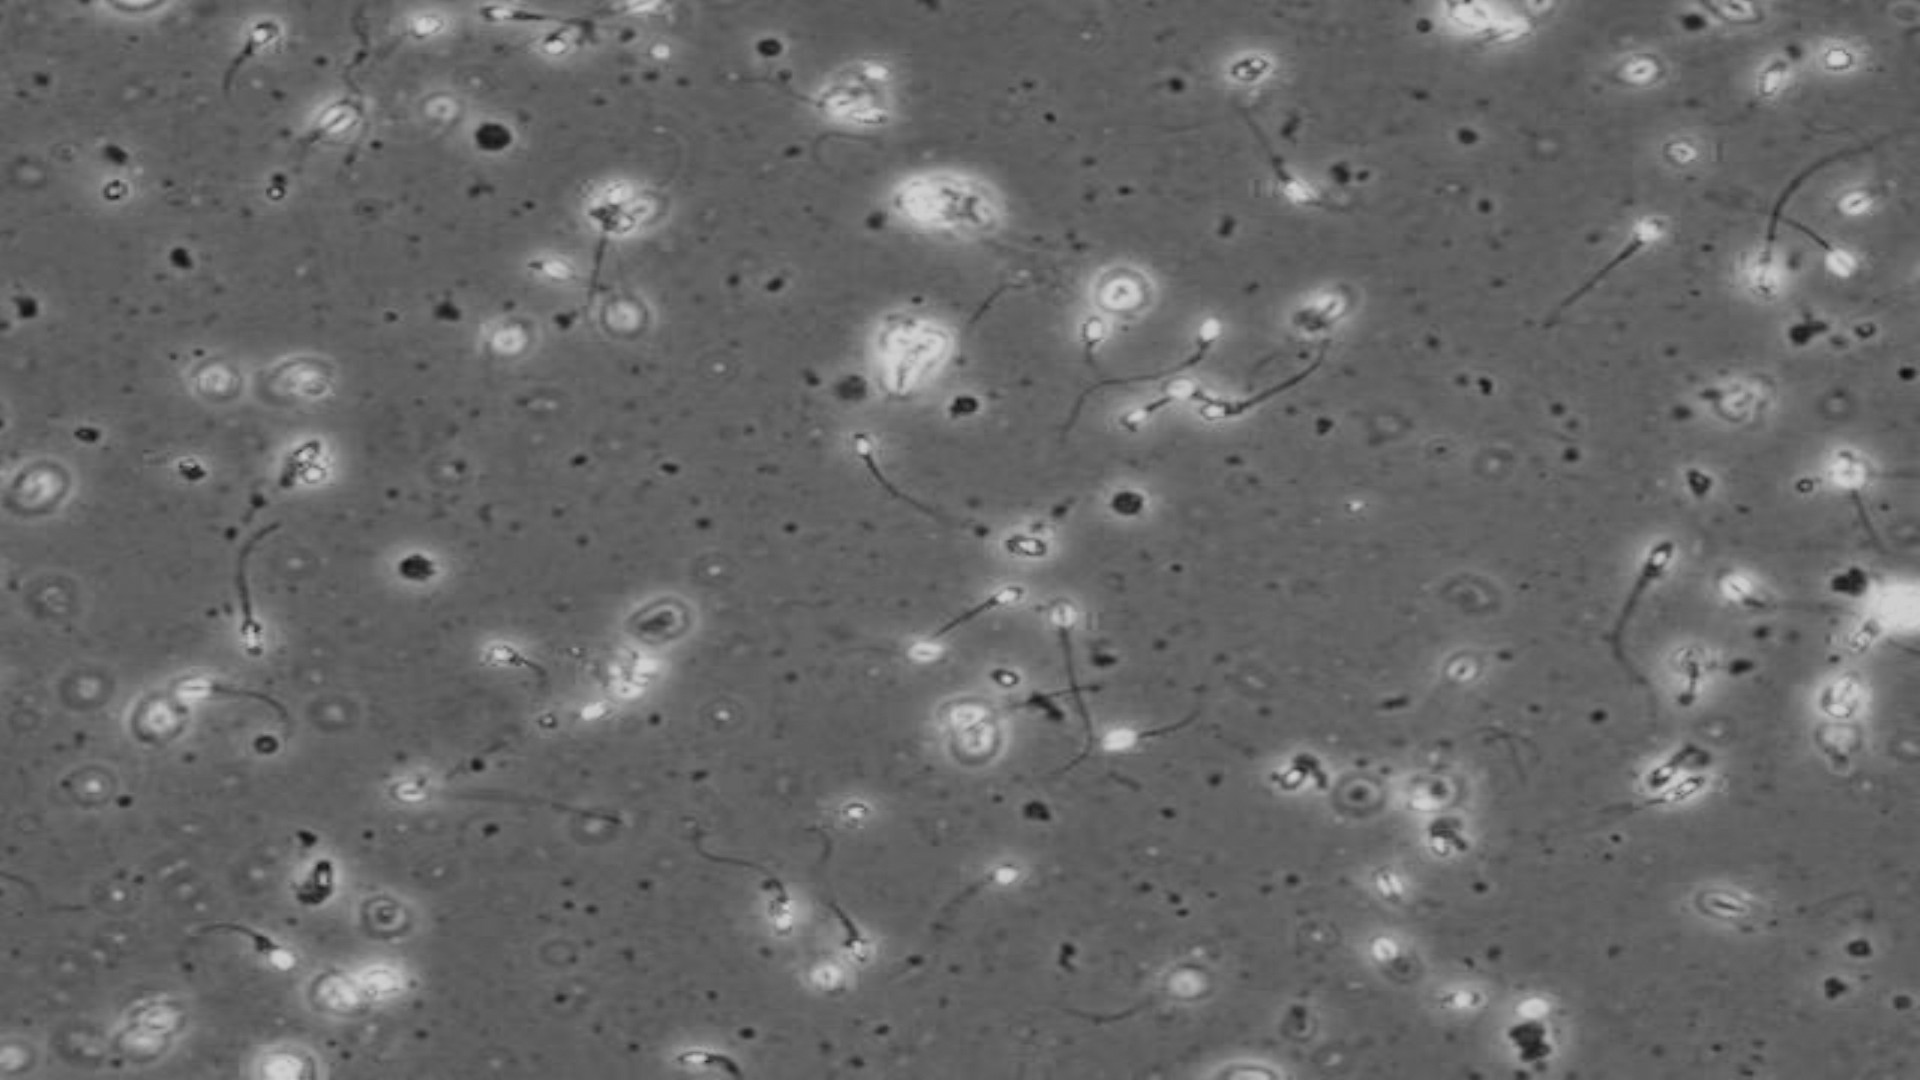sperm: (1092, 694, 1225, 767), (847, 431, 945, 527), (914, 864, 1027, 939), (709, 849, 799, 936), (377, 767, 531, 818), (1577, 220, 1668, 305), (1039, 599, 1102, 717), (1614, 546, 1684, 653), (1771, 210, 1859, 293), (1731, 185, 1793, 301), (572, 189, 632, 307), (810, 866, 880, 964), (210, 545, 272, 654), (178, 675, 295, 731), (924, 578, 1029, 640), (174, 924, 303, 973), (479, 642, 556, 716), (1139, 324, 1236, 384), (1249, 116, 1305, 208), (215, 22, 284, 96), (1200, 384, 1300, 434), (1064, 316, 1127, 392), (475, 4, 603, 41), (657, 1035, 771, 1073), (1112, 388, 1178, 433), (1160, 375, 1224, 418)
